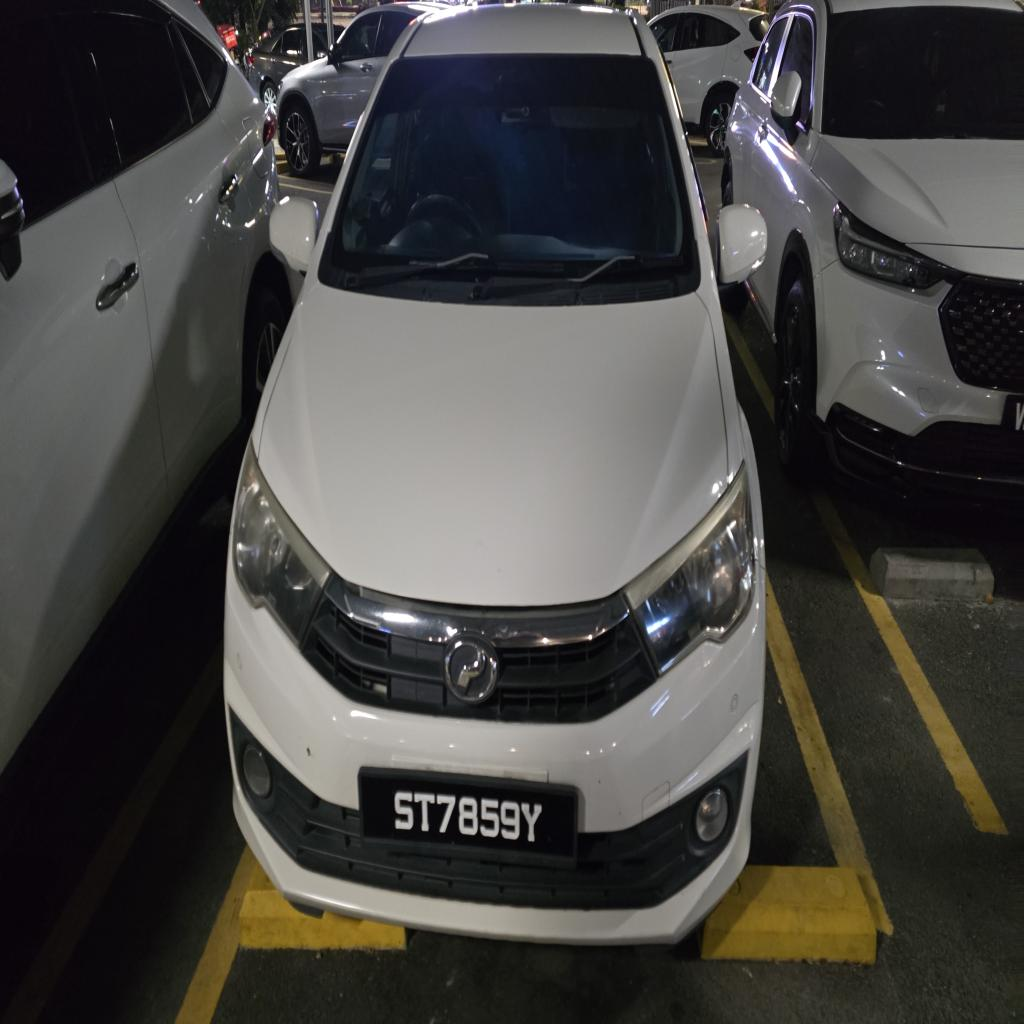car: (223, 4, 765, 943)
car plate: (359, 768, 577, 860)
